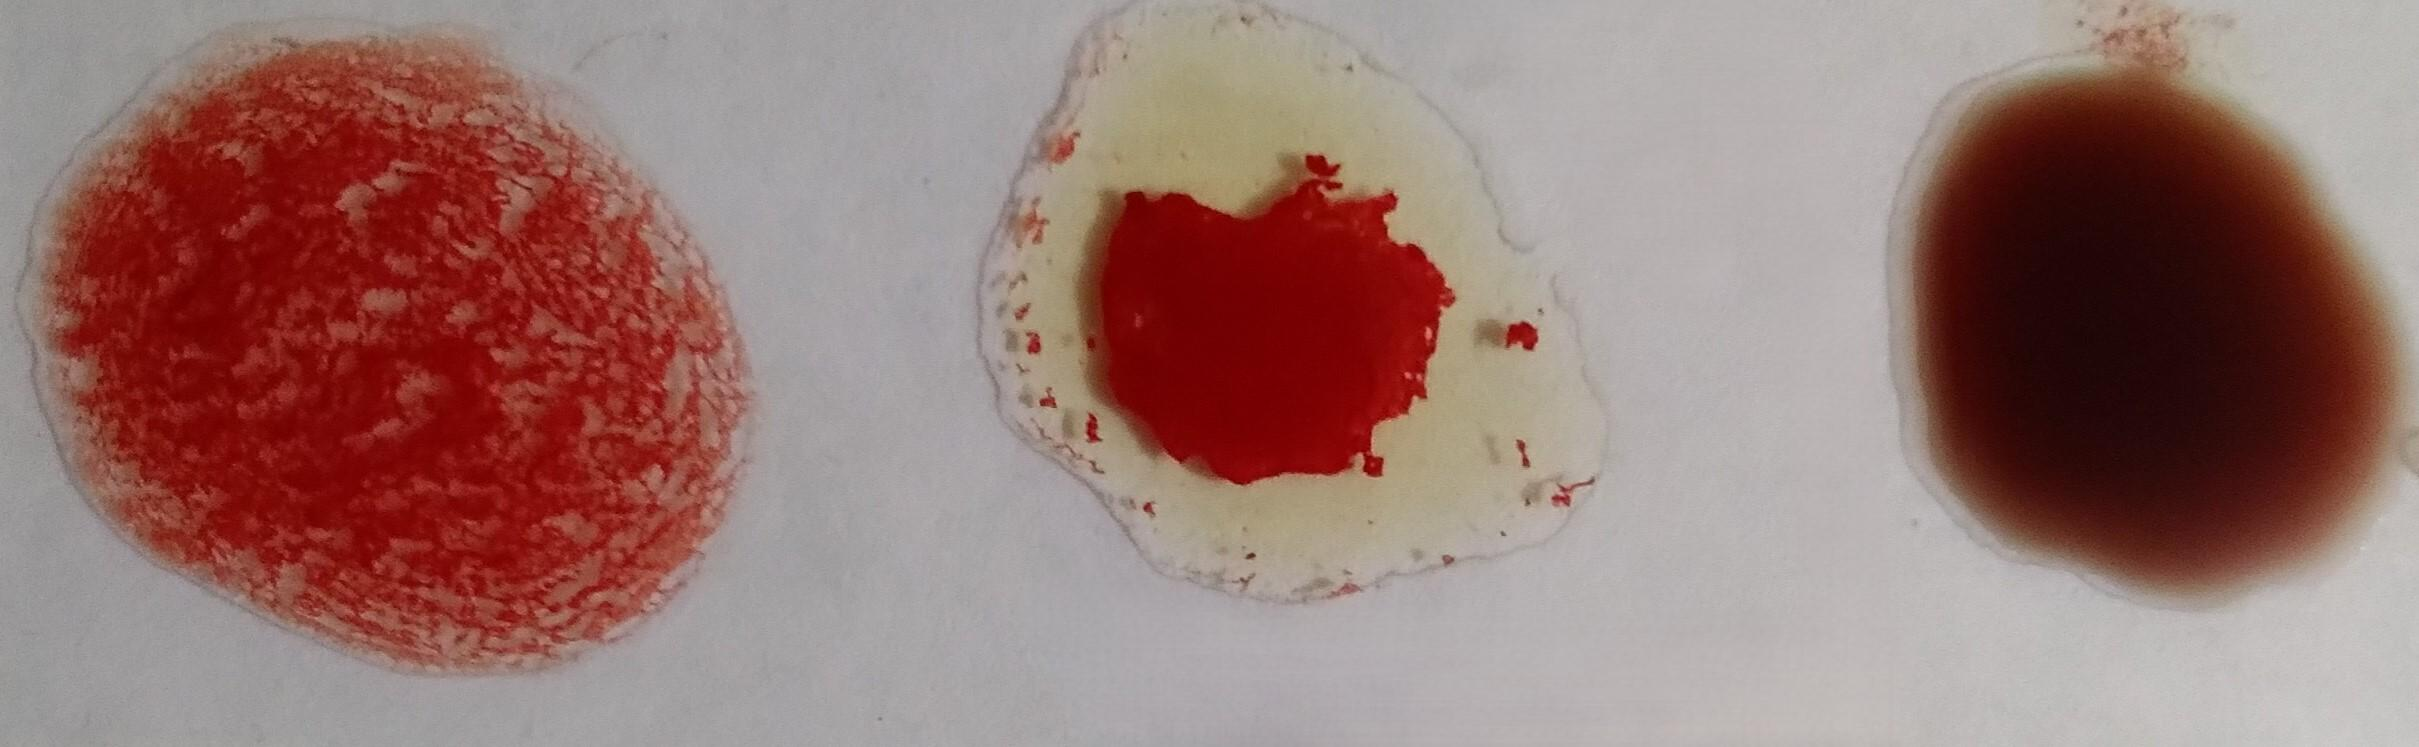B: (973, 31, 1615, 600)
D: (68, 48, 717, 670)
